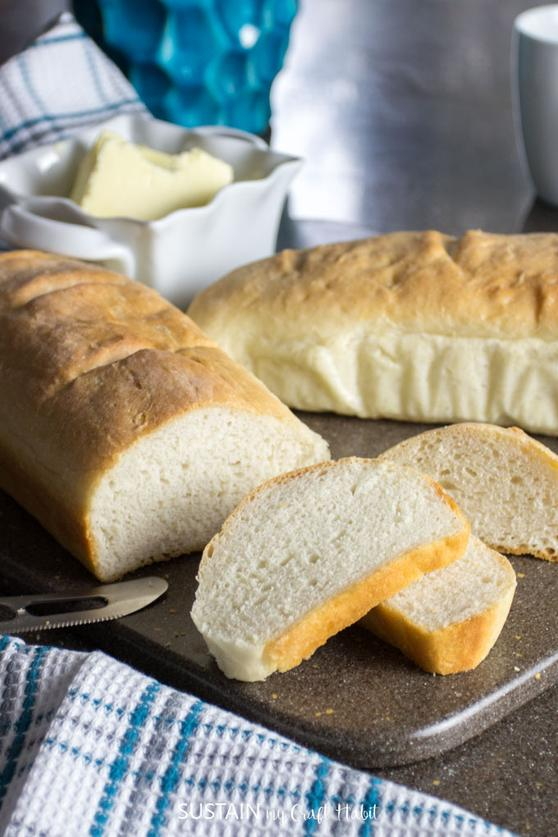white_bread: (1, 239, 308, 508)
